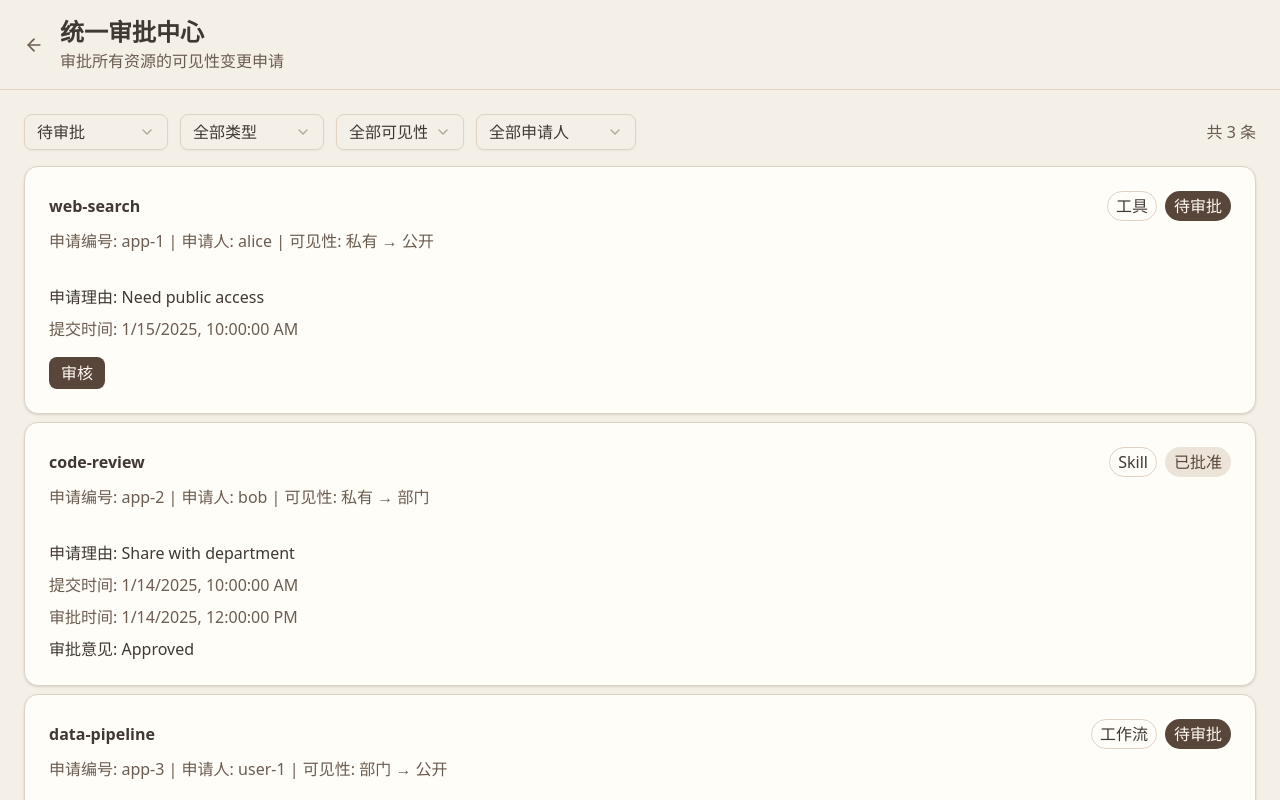
it: VisibilityApplicationsPage › shows status filter select defaulting to pending
The width and height of the screenshot is (1280, 800).
Expected: the text "web-search" is shown, x1=49 y1=198 x2=140 y2=214
Expected: the text "待审批" in the row of "共 3 条" is shown, x1=37 y1=121 x2=85 y2=143
Click the dropdown labelled "待审批" at (96, 132), box x1=24 y1=114 x2=168 y2=150
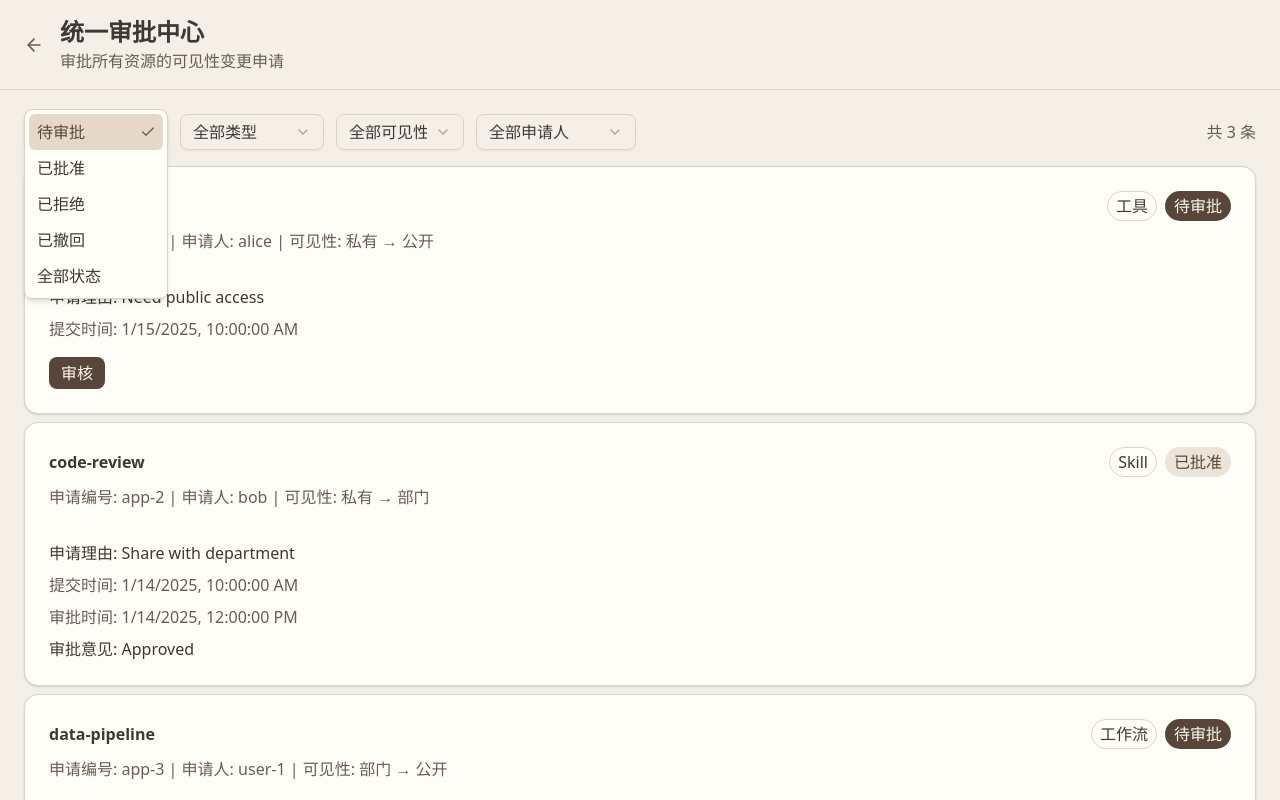
Now the option "待审批" is shown, box x1=29 y1=114 x2=163 y2=150
Now the option "已批准" is shown, box x1=37 y1=157 x2=85 y2=179
Now the option "已拒绝" is shown, box x1=37 y1=193 x2=85 y2=215
